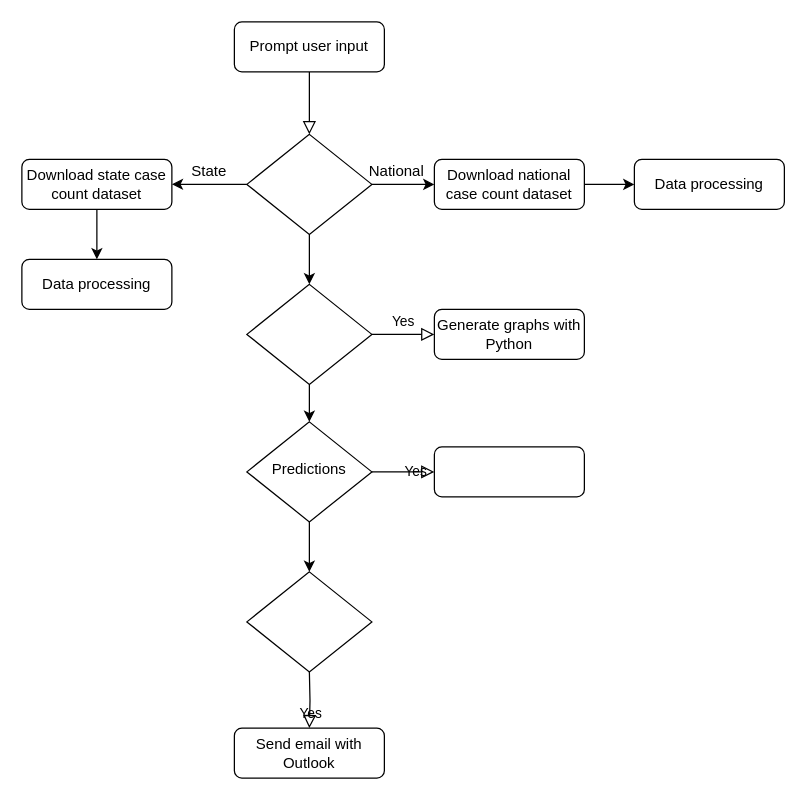
Image size: 806x800. Some labels were removed from this diagram. Each missing label, with the box of its shape:
Email: (246, 571, 372, 672)
Generate predictions with Python: (433, 446, 584, 497)
Graphs: (246, 283, 372, 384)
State/national: (246, 133, 372, 234)
